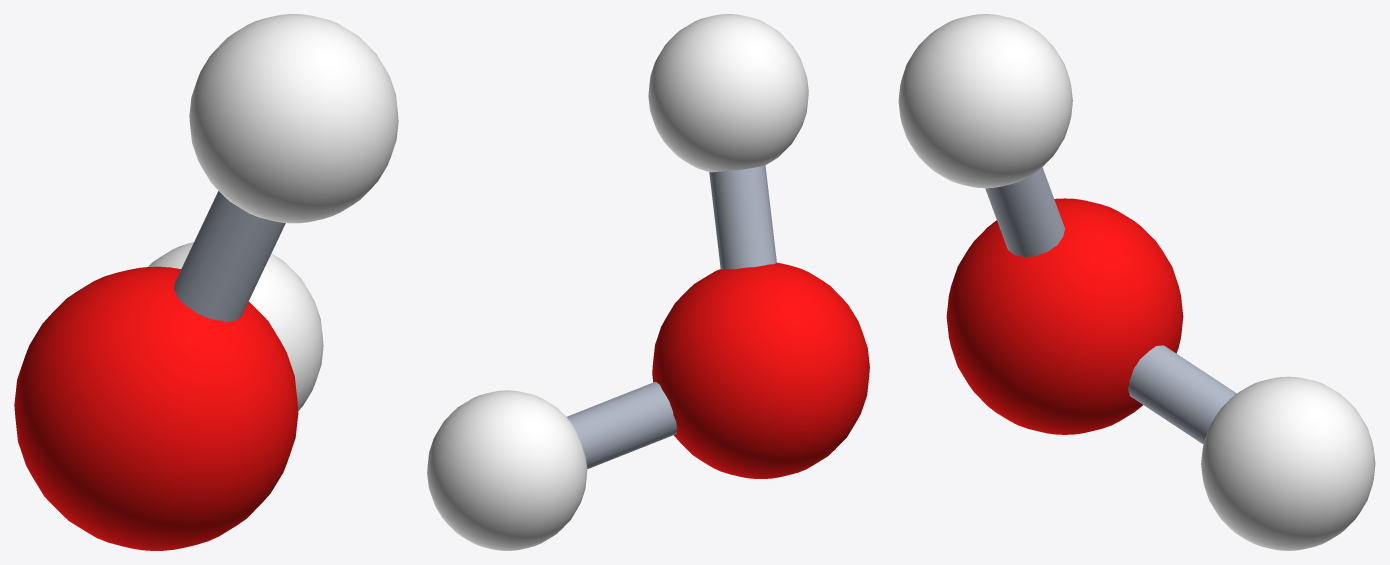
3 renders of one model, left to right at view 1: azimuth 30°, elevation 25°; view 2: azimuth 150°, elevation 25°; view 3: azimuth 270°, elevation 25°, orthographic. The views are drawn at different scales.
Visible parts, largest first — view 1: O, H (×2), bond; view 2: H (×2), O, bond (×2); view 3: H (×2), O, bond (×2).
Part boxes in pixels (<box>): O: <box>14,266,298,550</box>; H (×2): <box>148,14,398,410</box>; bond: <box>174,191,285,321</box>; H (×2): <box>427,14,808,550</box>; O: <box>652,262,869,478</box>; bond (×2): <box>567,165,776,468</box>; H (×2): <box>898,14,1375,550</box>; O: <box>946,198,1183,434</box>; bond (×2): <box>985,167,1236,444</box>.
Size of the model in its own units: 0.1648 by 0.22 by 0.1992.
